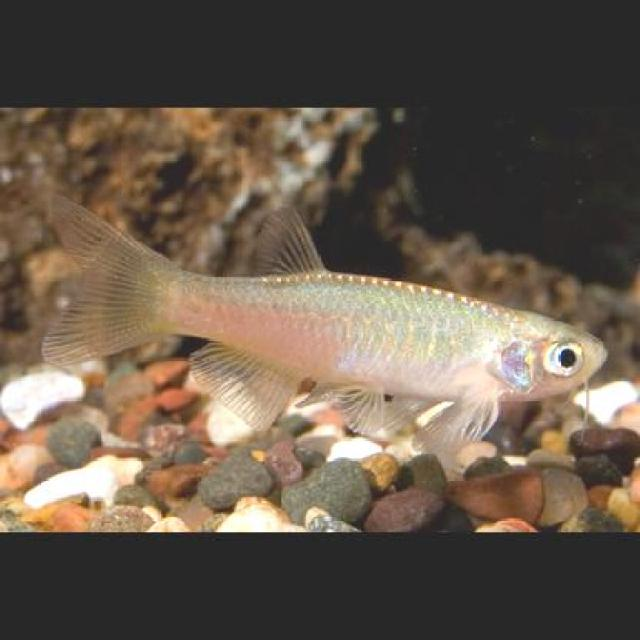ZebraFish: (39, 188, 607, 443)
